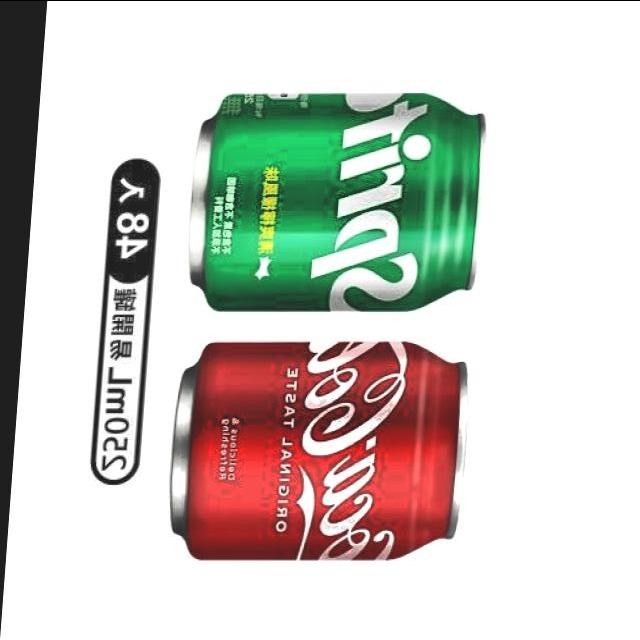Aluminum Can: (150, 329, 478, 566), (167, 80, 490, 318)
